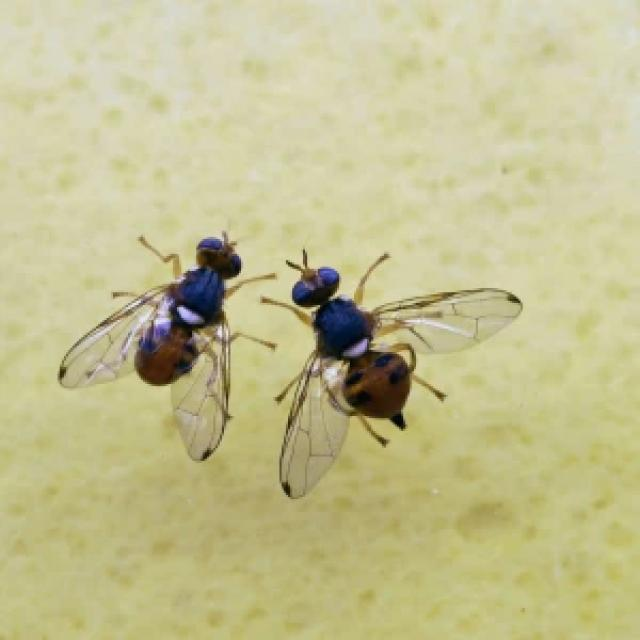Olive Fruit Fly: (260, 250, 521, 497), (60, 233, 275, 459)
